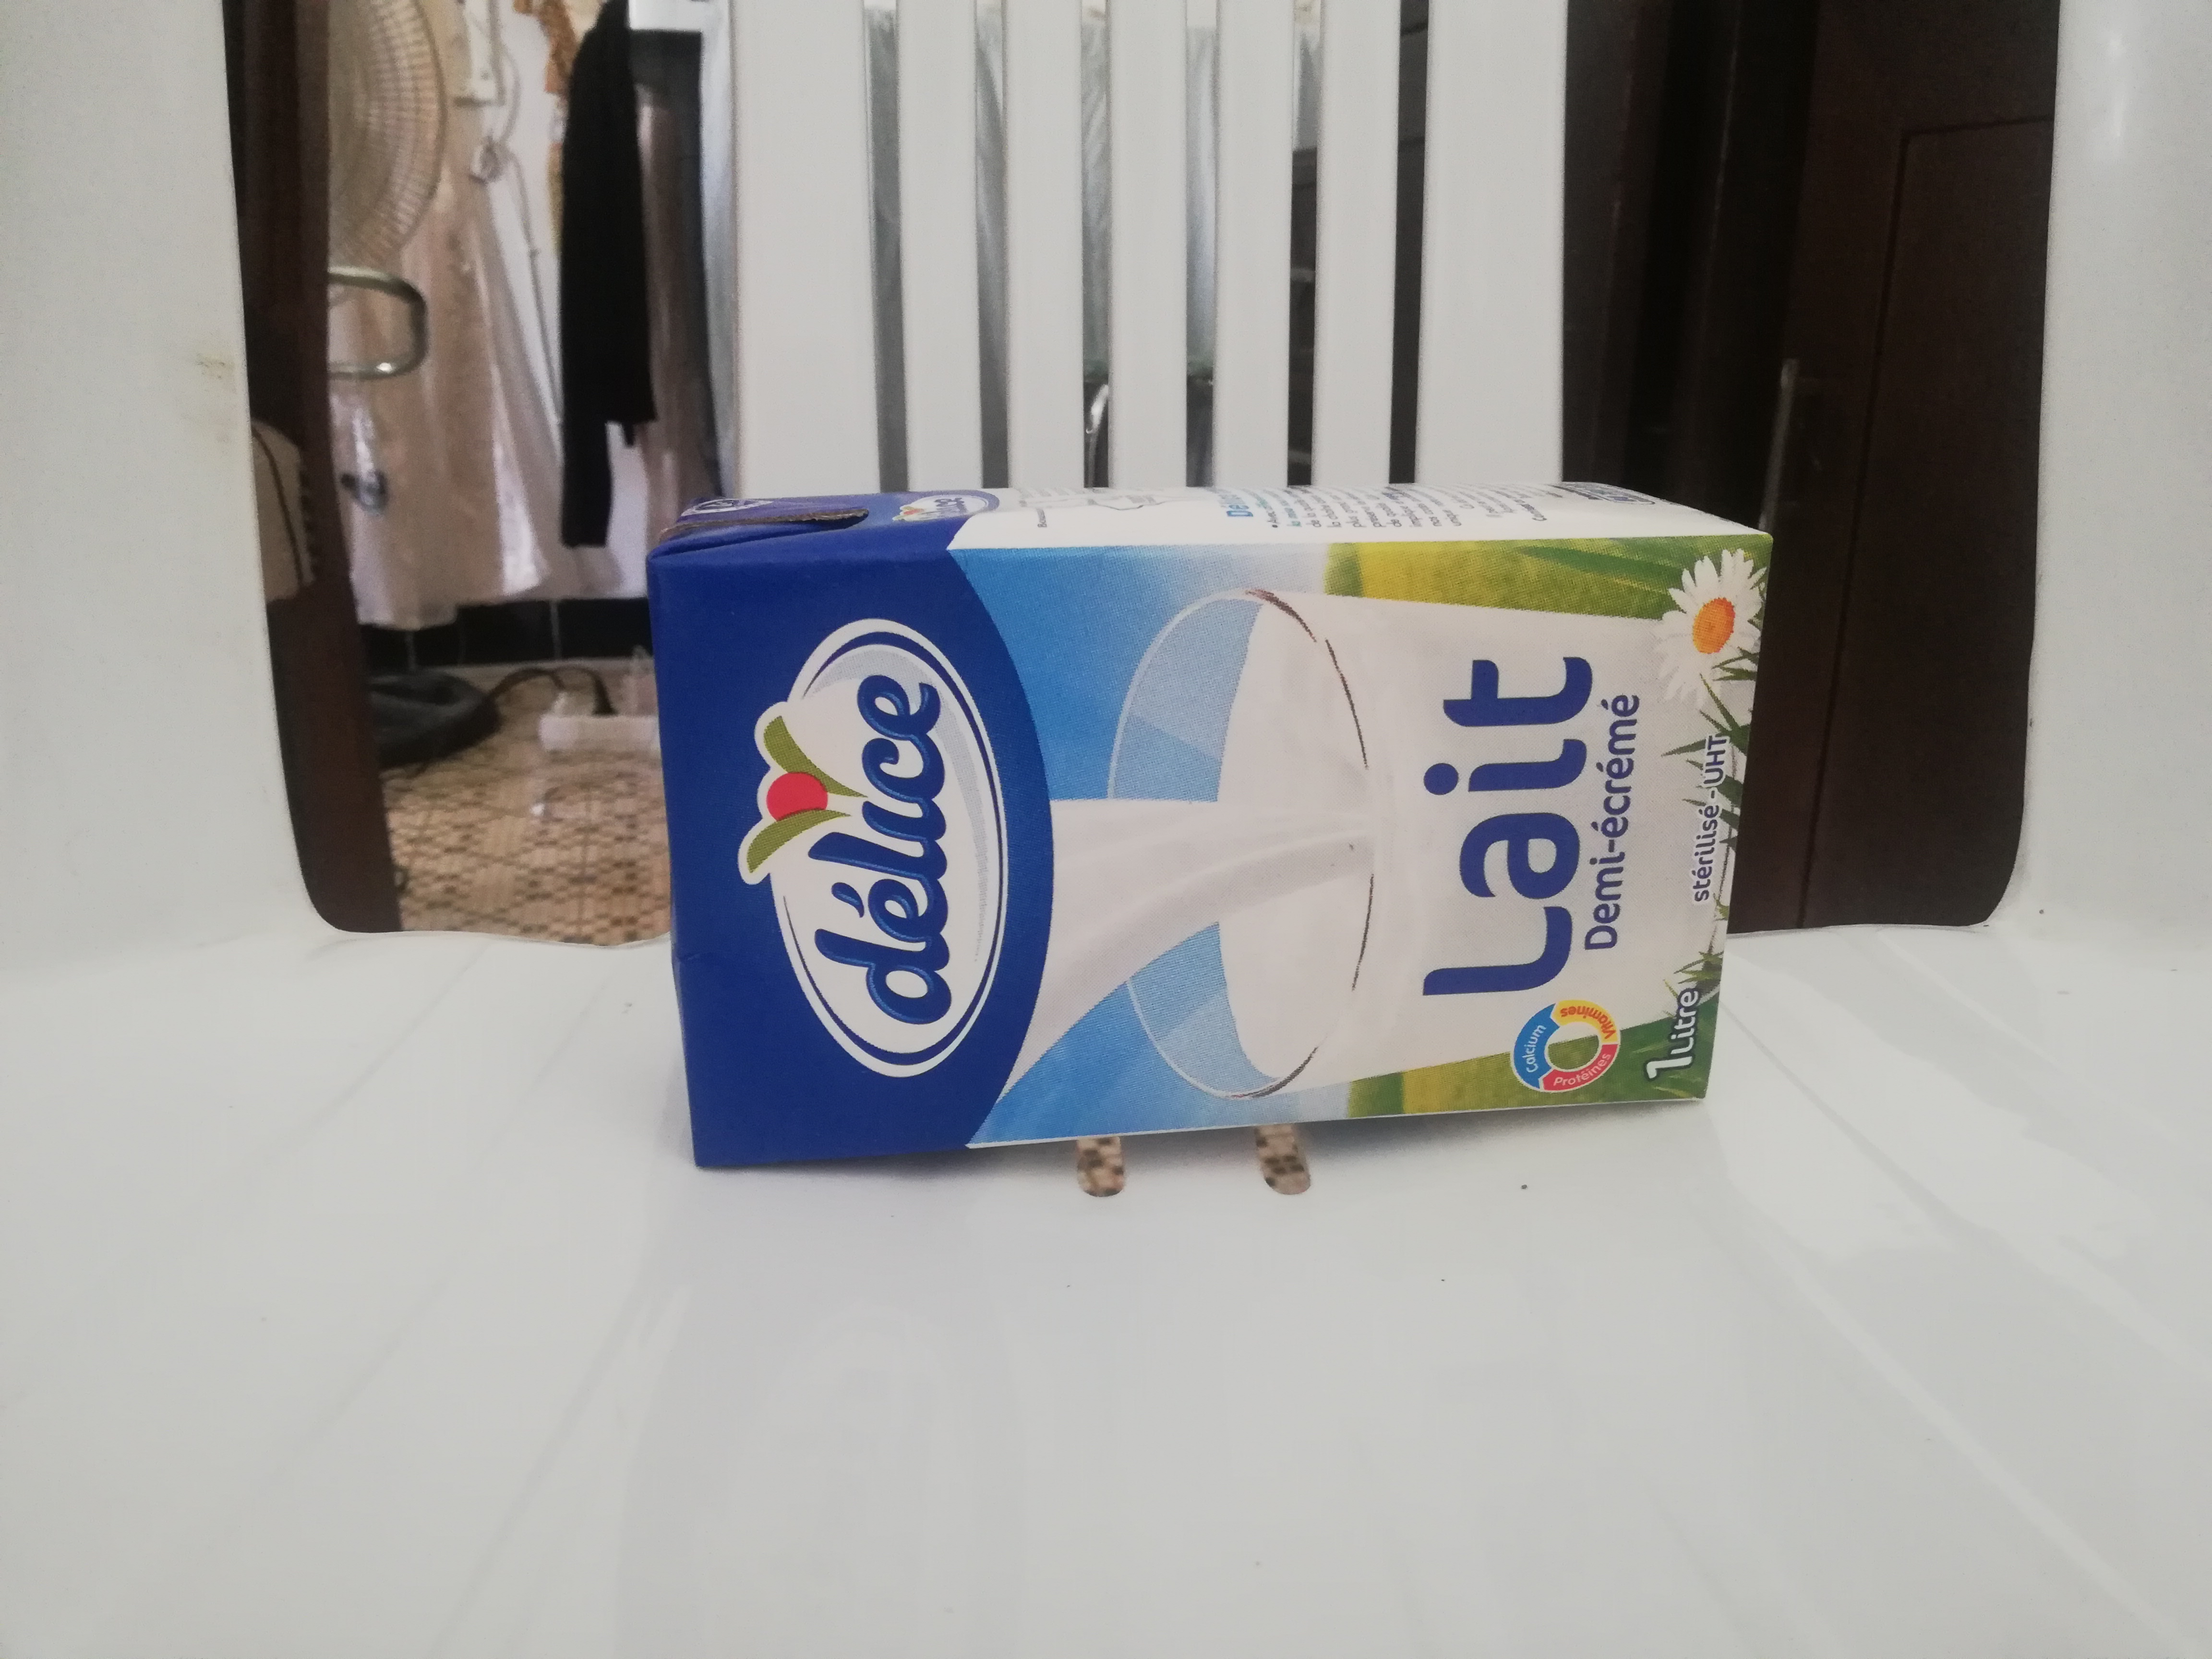Lait delice: (641, 484, 1784, 1162)
